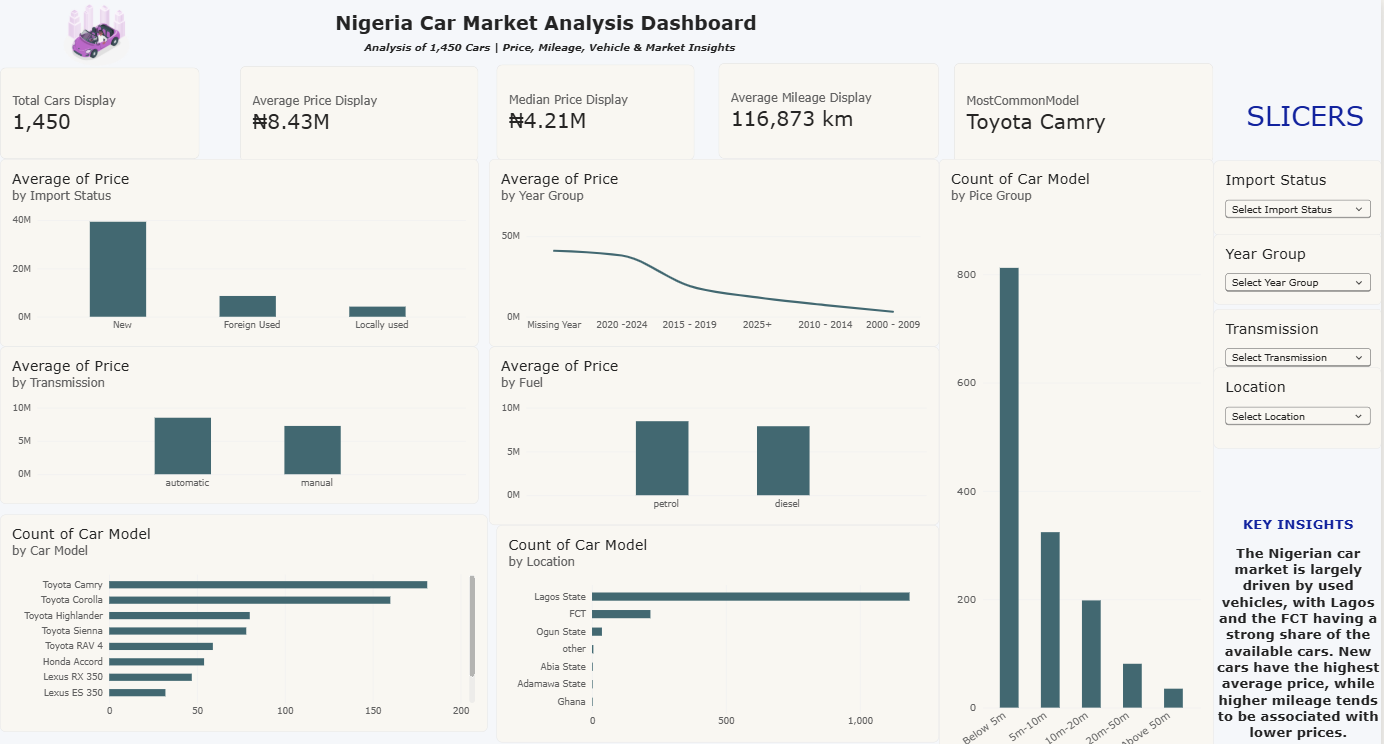

What the dashboard file says about the page in this screenshot:
{"tool":"powerbi","page":{"name":"Page 1","canvas":[1920,1080],"ordinal":0},"visuals":[{"type":"cardVisual","fields":{"Data":["Dublicat check.Average Price Display"]},"box":[333.3,91.7,331.2,133.3],"z":0},{"type":"cardVisual","fields":{"Data":["Dublicat check.Median Price Display"]},"box":[689.6,89.6,275,133.3],"z":1000},{"type":"cardVisual","fields":{"Data":["Dublicat check.MostCommonModel"]},"box":[1325,87.5,360.4,139.6],"z":2000},{"type":"clusteredColumnChart","fields":{"Category":["Dublicat check.Import Status"],"Y":["Avg(Dublicat check.Price)"]},"box":[0,220.8,664.6,260.4],"z":3000},{"type":"lineChart","fields":{"Category":["Dublicat check.Year Group"],"Y":["Avg(Dublicat check.Price)"]},"box":[679.2,220.8,625,260.4],"z":4000},{"type":"clusteredColumnChart","fields":{"Category":["Dublicat check.Transmission"],"Y":["Avg(Dublicat check.Price)"]},"box":[0,481.2,664.6,218.8],"z":5000},{"type":"clusteredColumnChart","fields":{"Category":["Dublicat check.Fuel"],"Y":["Avg(Dublicat check.Price)"]},"box":[679.2,481.2,625,247.9],"z":6000},{"type":"clusteredBarChart","fields":{"Category":["Dublicat check.Location2"],"Y":["CountNonNull(Dublicat check.Car Model)"]},"box":[689.6,729.2,614.6,302.1],"z":7000},{"type":"clusteredBarChart","fields":{"Category":["Dublicat check.Car Model"],"Y":["CountNonNull(Dublicat check.Car Model)"]},"box":[0,714.6,677.1,302.1],"z":8000},{"type":"clusteredColumnChart","fields":{"Category":["Dublicat check.Pice Group"],"Y":["CountNonNull(Dublicat check.Car Model)"]},"box":[1304.2,220.8,381.2,858.3],"z":9000},{"type":"textbox","box":[0,14.1,1516.7,33.3],"z":10000},{"type":"textbox","box":[410.4,56.2,706.2,31.2],"z":11000},{"type":"listSlicer","fields":{"Values":["Dublicat check.Import Status"]},"box":[1685.4,222.9,235.4,104.2],"z":12000},{"type":"listSlicer","fields":{"Values":["Dublicat check.Year Group"]},"box":[1685.7,325.9,235.4,97.9],"z":13000},{"type":"listSlicer","fields":{"Values":["Dublicat check.Transmission"]},"box":[1685.7,429,235.4,100],"z":14000},{"type":"listSlicer","title":"Location","fields":{"Values":["Dublicat check.Location2"]},"box":[1685.7,511.1,234.4,112.5],"z":15000},{"type":"textbox","box":[1685.4,700,235.4,379.2],"z":16000},{"type":"textbox","box":[1685.4,87.5,235.4,135.4],"z":17000},{"type":"cardVisual","fields":{"Data":["Dublicat check.Average Mileage Display"]},"box":[997.9,87.5,306.2,133.3],"z":18000},{"type":"cardVisual","fields":{"Data":["Dublicat check.Total Cars Display"]},"box":[0,93.5,277.8,127.6],"z":19000},{"type":"image","box":[30.5,0,206.3,93.8],"z":20000}]}

Visuals, with their boxes on the page's 1920x1080 design canvas (x1, y1, x2, y2). These are canvas units, not pixel positions in the 1384x744 screenshot, which may show the page scaled, cropped or inside an application window:
cardVisual - Dublicat check.Average Price Display: {"left": 333, "top": 92, "right": 664, "bottom": 225}
cardVisual - Dublicat check.Median Price Display: {"left": 690, "top": 90, "right": 965, "bottom": 223}
cardVisual - Dublicat check.MostCommonModel: {"left": 1325, "top": 88, "right": 1685, "bottom": 227}
clusteredColumnChart - Dublicat check.Import Status x Avg(Dublicat check.Price): {"left": 0, "top": 221, "right": 665, "bottom": 481}
lineChart - Dublicat check.Year Group x Avg(Dublicat check.Price): {"left": 679, "top": 221, "right": 1304, "bottom": 481}
clusteredColumnChart - Dublicat check.Transmission x Avg(Dublicat check.Price): {"left": 0, "top": 481, "right": 665, "bottom": 700}
clusteredColumnChart - Dublicat check.Fuel x Avg(Dublicat check.Price): {"left": 679, "top": 481, "right": 1304, "bottom": 729}
clusteredBarChart - Dublicat check.Location2 x CountNonNull(Dublicat check.Car Model): {"left": 690, "top": 729, "right": 1304, "bottom": 1031}
clusteredBarChart - Dublicat check.Car Model x CountNonNull(Dublicat check.Car Model): {"left": 0, "top": 715, "right": 677, "bottom": 1017}
clusteredColumnChart - Dublicat check.Pice Group x CountNonNull(Dublicat check.Car Model): {"left": 1304, "top": 221, "right": 1685, "bottom": 1079}
textbox: {"left": 0, "top": 14, "right": 1517, "bottom": 47}
textbox: {"left": 410, "top": 56, "right": 1117, "bottom": 87}
listSlicer - Dublicat check.Import Status: {"left": 1685, "top": 223, "right": 1921, "bottom": 327}
listSlicer - Dublicat check.Year Group: {"left": 1686, "top": 326, "right": 1921, "bottom": 424}
listSlicer - Dublicat check.Transmission: {"left": 1686, "top": 429, "right": 1921, "bottom": 529}
"Location" listSlicer: {"left": 1686, "top": 511, "right": 1920, "bottom": 624}
textbox: {"left": 1685, "top": 700, "right": 1921, "bottom": 1079}
textbox: {"left": 1685, "top": 88, "right": 1921, "bottom": 223}
cardVisual - Dublicat check.Average Mileage Display: {"left": 998, "top": 88, "right": 1304, "bottom": 221}
cardVisual - Dublicat check.Total Cars Display: {"left": 0, "top": 94, "right": 278, "bottom": 221}
image: {"left": 30, "top": 0, "right": 237, "bottom": 94}
